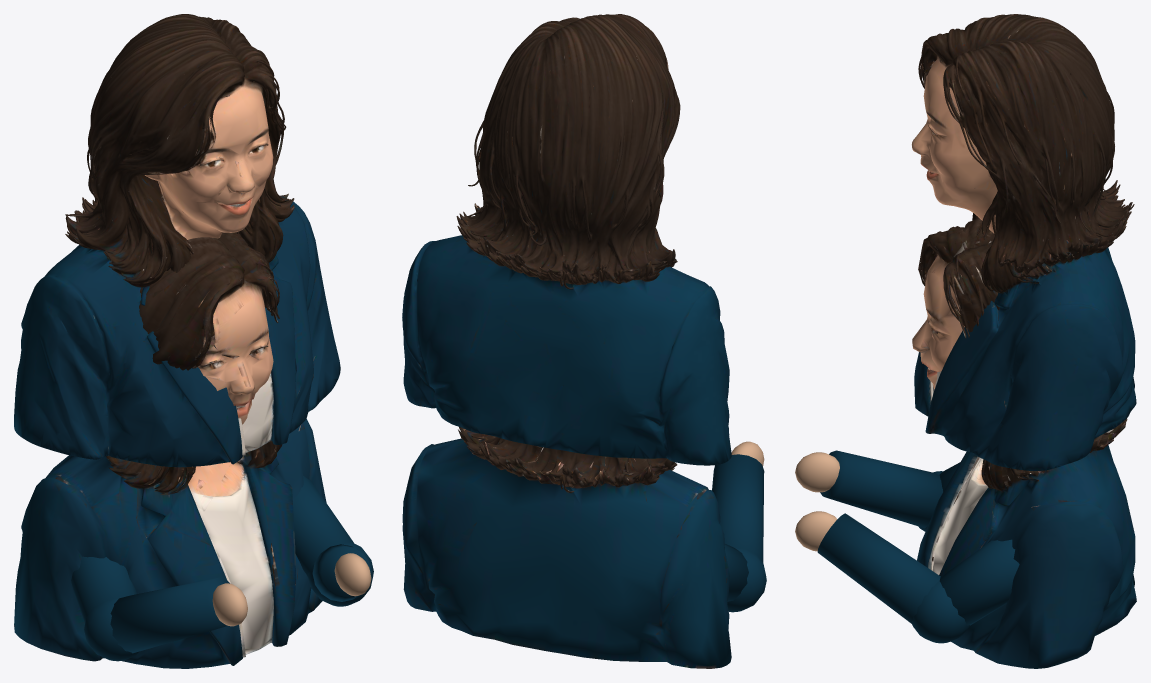
Rendered from feifei-runtime.glb.
3 views of the same model, side by side, from view 1: azimuth 30°, elevation 25°; view 2: azimuth 150°, elevation 25°; view 3: azimuth 270°, elevation 25° (orthographic). The views are drawn at different scales.
Parts seen in each view (by area): view 1: feifei / portrait sculpture, feifei / driving sculpture, feifei / driving sleeves, feifei / driving hands; view 2: feifei / portrait sculpture, feifei / driving sculpture, feifei / driving sleeves; view 3: feifei / portrait sculpture, feifei / driving sculpture, feifei / driving sleeves, feifei / driving hands.
Part boxes in pixels (<box>): feifei / portrait sculpture: <box>14,14,340,467</box>; feifei / driving sculpture: <box>14,232,326,668</box>; feifei / driving sleeves: <box>71,476,373,661</box>; feifei / driving hands: <box>212,553,371,626</box>; feifei / portrait sculpture: <box>402,14,731,465</box>; feifei / driving sculpture: <box>402,427,731,668</box>; feifei / driving sleeves: <box>712,454,766,612</box>; feifei / portrait sculpture: <box>911,14,1136,470</box>; feifei / driving sculpture: <box>912,217,1136,668</box>; feifei / driving sleeves: <box>817,450,1019,643</box>; feifei / driving hands: <box>795,452,839,551</box>.
Size of the model in its own units: 0.8185 by 1.5 by 0.7834.
Materials: 3 (1 with a texture image).
